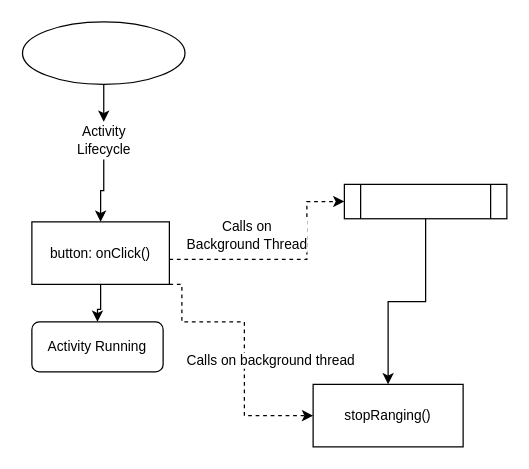
The diagram is 529 pixels wide and 469 high, and some of its shapes have lost their labels. Here are the shapes that lost their labels. From the top down, the centre of each, then its label:
the point at 103,52: HomeFragment Comitted
the point at 425,201: startRanging()
